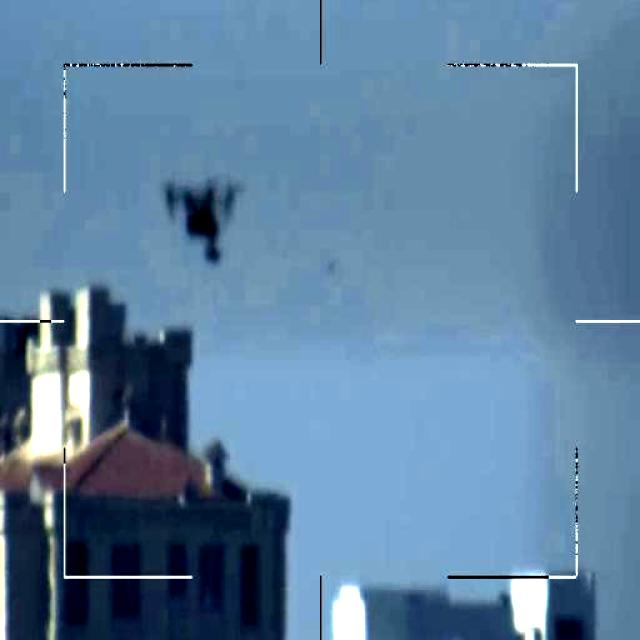bird: (165, 169, 239, 261)
